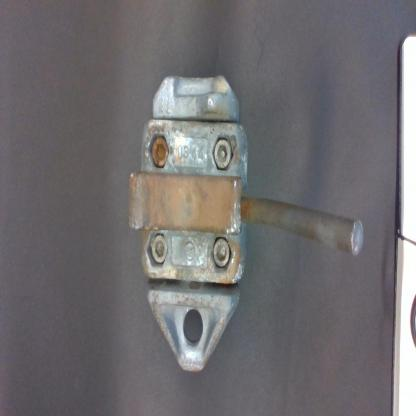Twistlock: (123, 66, 368, 376)
